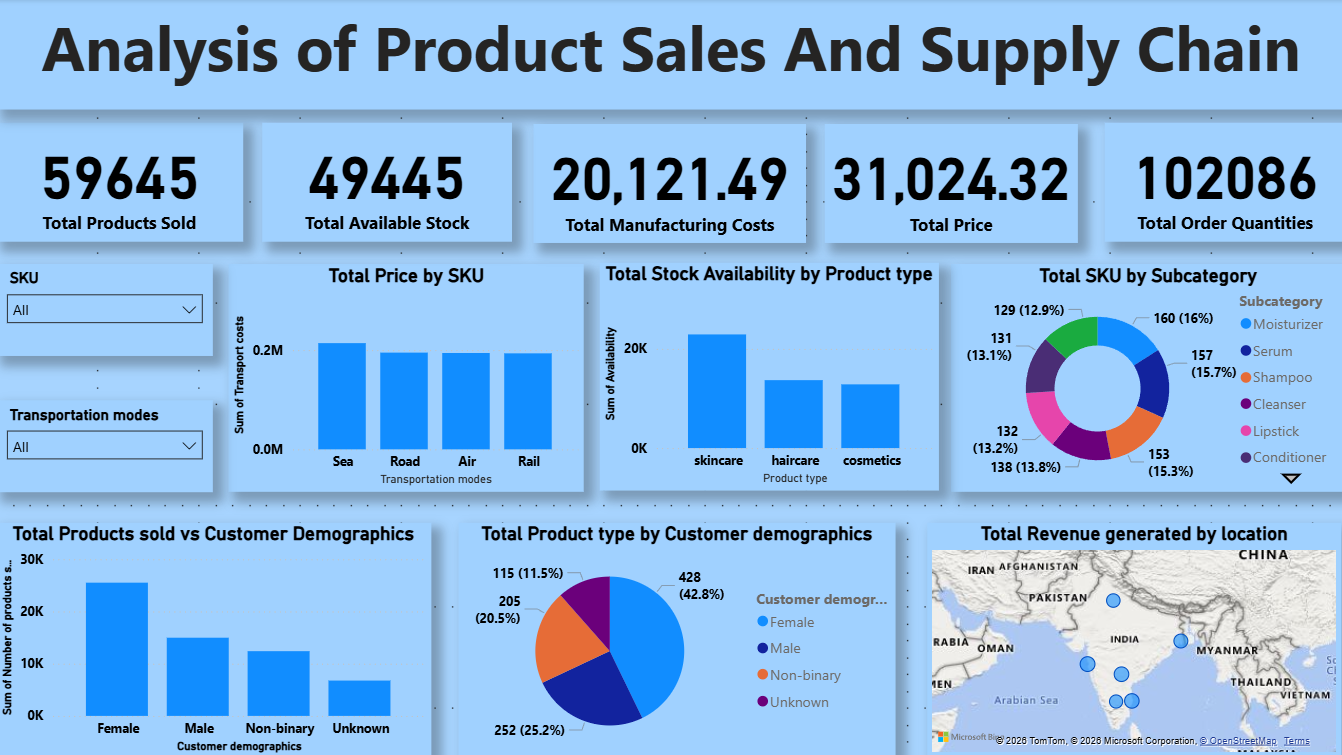

The page's visual inventory and layout, read from the dashboard file:
{"tool":"powerbi","page":{"name":"Page 1","canvas":[1280,720],"ordinal":0},"visuals":[{"type":"clusteredColumnChart","title":"Total Price by SKU","fields":{"Category":["Sheet1.Transportation modes"],"Y":["Sum(Sheet1.Transport costs)"]},"box":[220,251.4,337.1,215.7],"z":0},{"type":"lineStackedColumnComboChart","title":"Total Products sold vs Customer Demographics","fields":{"Category":["Sheet1.Customer demographics"],"Y":["Sum(Sheet1.Number of products sold)"]},"box":[0,497,412.4,223.1],"z":1000},{"type":"card","fields":{"Values":["Sum(Sheet1.Number of products sold)"]},"box":[0,117.1,234.3,112.9],"z":2000},{"type":"textbox","box":[0,0,1280.3,104.6],"z":3000},{"type":"card","fields":{"Values":["Sum(Sheet1.Manufacturing costs)"]},"box":[510,118.6,258.6,112.9],"z":4000},{"type":"card","fields":{"Values":["Sum(Sheet1.Price)"]},"box":[785.7,118.6,240,112.9],"z":5000},{"type":"card","fields":{"Values":["Sum(Sheet1.Order quantities)"]},"box":[1051.4,117.1,228.6,112.9],"z":6000},{"type":"slicer","fields":{"Values":["Sheet1.SKU"]},"box":[0,251.4,205.7,87.1],"z":7000},{"type":"pieChart","title":"Total Product type by Customer demographics","fields":{"Category":["Sheet1.Customer demographics"],"Y":["CountNonNull(Sheet1.Product type)"]},"box":[438.6,497.1,414.3,222.9],"z":8000},{"type":"donutChart","title":"Total SKU by Subcategory","fields":{"Category":["Sheet1.Subcategory"],"Y":["CountNonNull(Sheet1.SKU)"]},"box":[905.7,251.4,374.3,215.7],"z":9000},{"type":"clusteredColumnChart","title":"Total Stock Availability by Product type","fields":{"Category":["Sheet1.Product type"],"Y":["Sum(Sheet1.Availability)"]},"box":[572.9,250,321.4,215.7],"z":10000},{"type":"slicer","fields":{"Values":["Sheet1.Transportation modes"]},"box":[0,380,205.7,87.1],"z":11000},{"type":"map","title":"Total Revenue generated by location","fields":{"Category":["Sheet1.Location"],"Size":["Sum(Sheet1.Revenue generated)"]},"box":[882.9,497.1,392.9,222.9],"z":12000},{"type":"card","fields":{"Values":["Sum(Sheet1.Availability)"]},"box":[252.9,117.1,237.1,112.9],"z":13000}]}

Visuals, with their boxes in screenshot pixels (x1, y1, x2, y2), scaled from the page's 1280x720 canvas onto the 1342x755 screenshot:
"Total Price by SKU" clusteredColumnChart: 231:264:584:490
"Total Products sold vs Customer Demographics" lineStackedColumnComboChart: 0:521:432:754
card - Sum(Sheet1.Number of products sold): 0:123:246:241
textbox: 0:0:1341:110
card - Sum(Sheet1.Manufacturing costs): 535:124:806:243
card - Sum(Sheet1.Price): 824:124:1075:243
card - Sum(Sheet1.Order quantities): 1102:123:1341:241
slicer - Sheet1.SKU: 0:264:216:355
"Total Product type by Customer demographics" pieChart: 460:521:894:754
"Total SKU by Subcategory" donutChart: 950:264:1341:490
"Total Stock Availability by Product type" clusteredColumnChart: 601:262:938:488
slicer - Sheet1.Transportation modes: 0:398:216:490
"Total Revenue generated by location" map: 926:521:1338:754
card - Sum(Sheet1.Availability): 265:123:514:241
